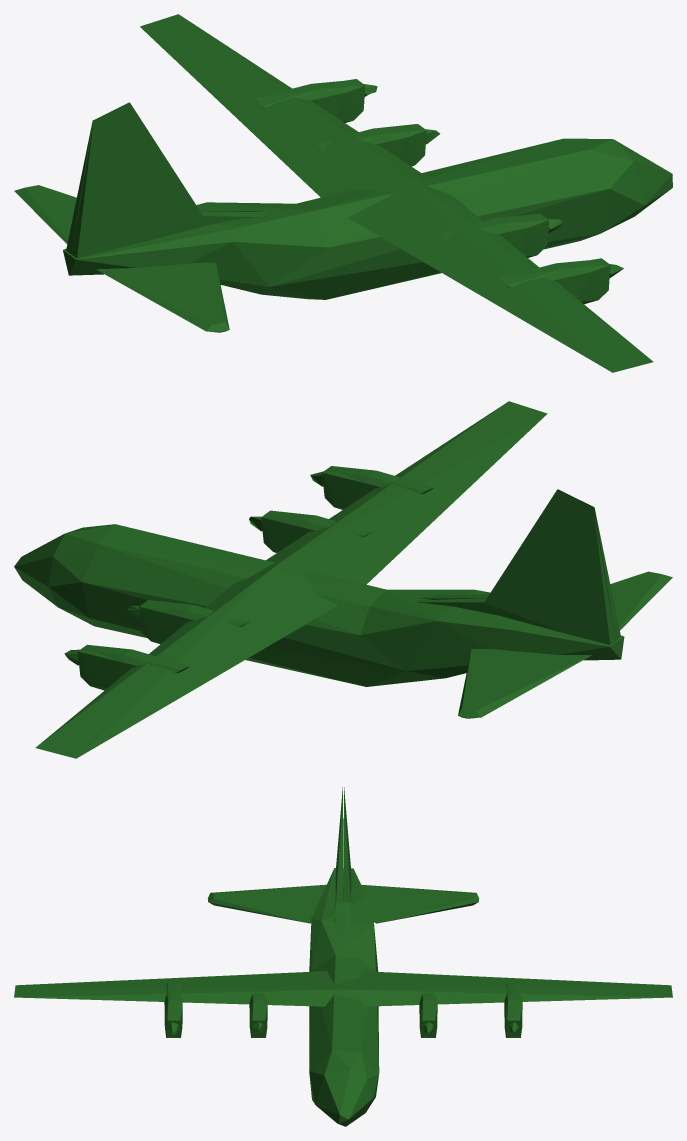
The model's file is c130_(EXPORT MIN).glb.
3 renders of one model, top to bottom at view 1: azimuth 30°, elevation 25°; view 2: azimuth 150°, elevation 25°; view 3: azimuth 270°, elevation 25°, orthographic. The views are drawn at different scales.
Parts seen in each view (by area): view 1: Cube.009; view 2: Cube.009; view 3: Cube.009.
Boxes of the visible parts, x1,y1,x2,y2 form: Cube.009: (14, 14, 672, 372); Cube.009: (14, 401, 672, 758); Cube.009: (14, 787, 672, 1126).
Size of the model in its own units: 19.92 by 7.74 by 27.15.
